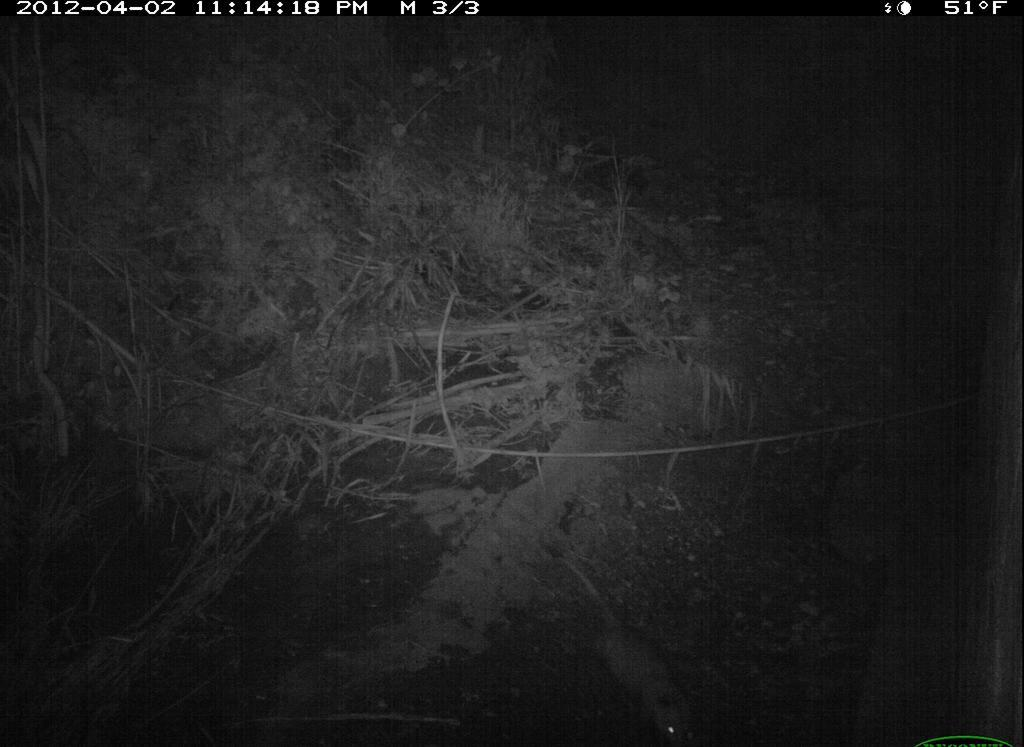opossum: (553, 552, 711, 747)
